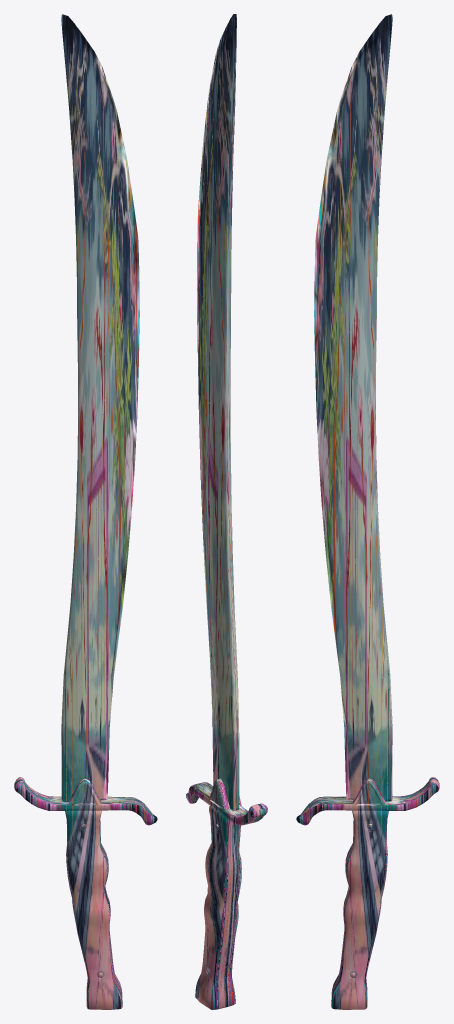
The model's file is ph_wooden_handle_saber.glb.
3 renders of one model, left to right at view 1: azimuth 90°, elevation 25°; view 2: azimuth 210°, elevation 25°; view 3: azimuth 270°, elevation 25°, orthographic.
Visible parts, largest first — view 1: A; view 2: A; view 3: A.
Part boxes in pixels (bbox=[...]): A: bbox=[14, 14, 157, 1009]; A: bbox=[186, 14, 267, 1009]; A: bbox=[296, 14, 439, 1009].
Bounding box in the file's own units: 0.0549 × 2 × 0.2625.
1 material, 1 textured.
